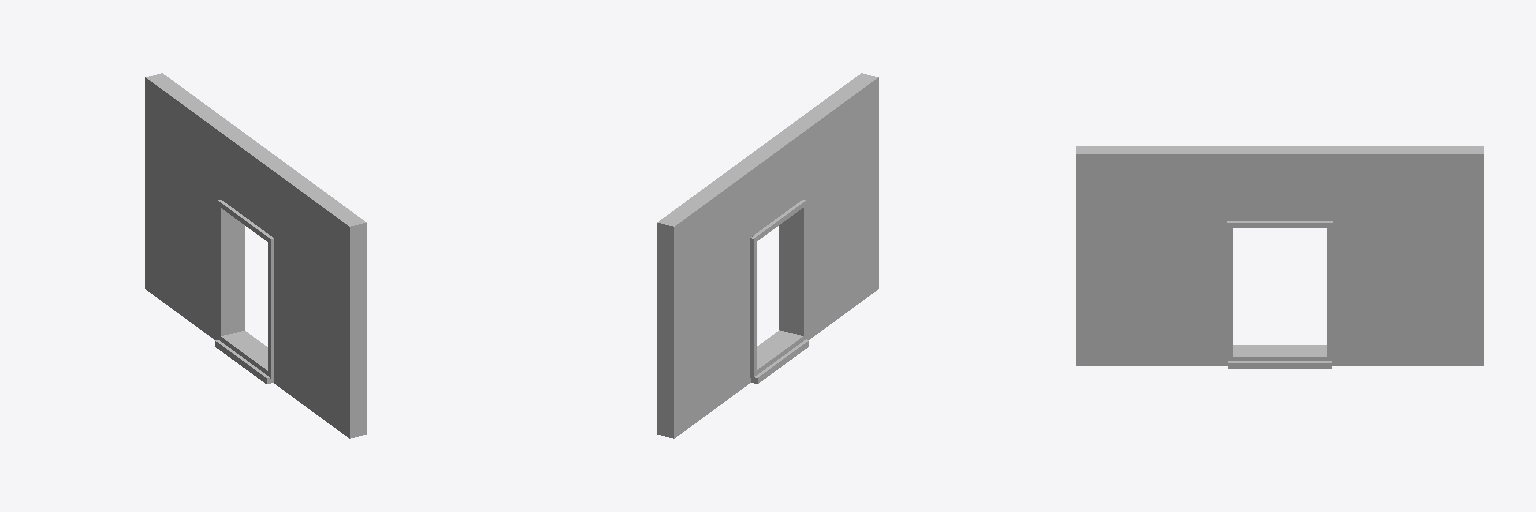
File: wall_with_center_door_internal.obj
3 renders of one model, left to right at view 1: azimuth 30°, elevation 25°; view 2: azimuth 150°, elevation 25°; view 3: azimuth 270°, elevation 25°, orthographic.
Parts seen in each view (by area): view 1: VisualWall.006_Cube.060, VisualDoorFrame.001_Cube.059; view 2: VisualWall.006_Cube.060, VisualDoorFrame.001_Cube.059; view 3: VisualWall.006_Cube.060, VisualDoorFrame.001_Cube.059.
Boxes of the visible parts, <box> form: VisualWall.006_Cube.060: <box>145,73,366,438</box>; VisualDoorFrame.001_Cube.059: <box>215,200,273,383</box>; VisualWall.006_Cube.060: <box>657,73,878,438</box>; VisualDoorFrame.001_Cube.059: <box>750,200,808,383</box>; VisualWall.006_Cube.060: <box>1076,146,1483,365</box>; VisualDoorFrame.001_Cube.059: <box>1227,221,1332,368</box>.
Size of the model in its own units: 0.4554 by 3.01 by 5.25.